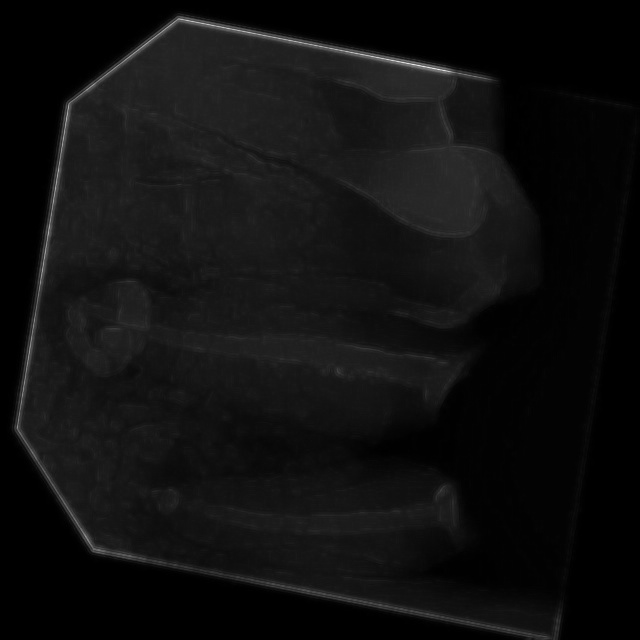Class 1- complete endodontic treatment: (32, 205, 494, 498)
